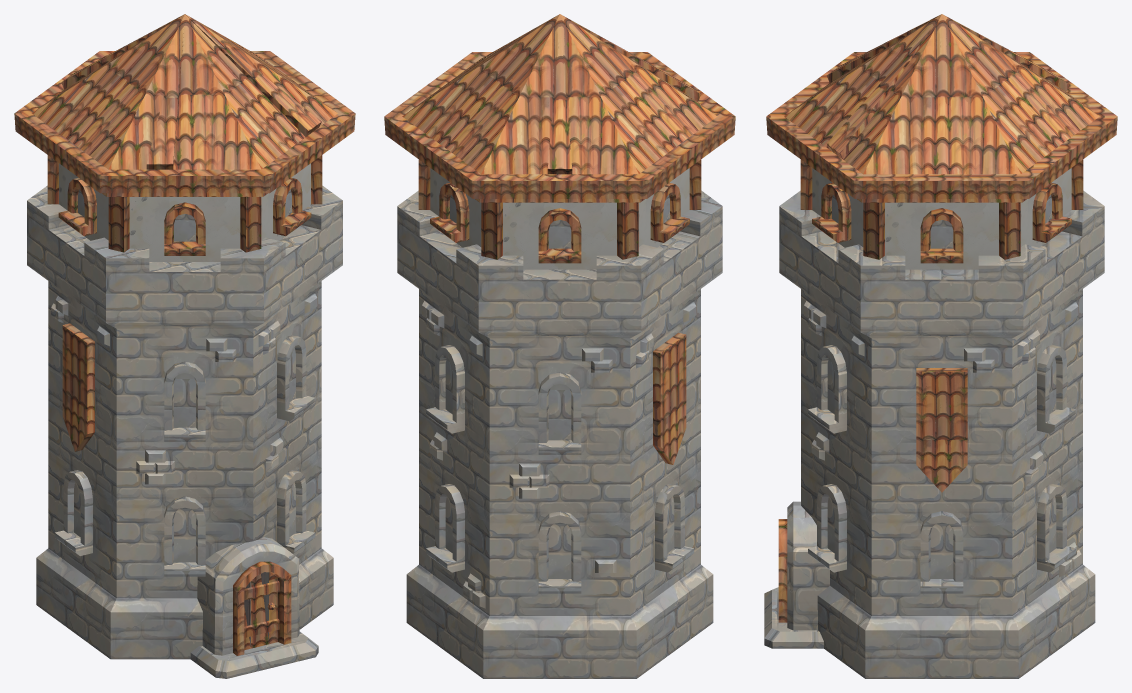
Rendered from building_tower_A_red.gltf.
3 views of the same model, side by side, from view 1: azimuth 30°, elevation 25°; view 2: azimuth 150°, elevation 25°; view 3: azimuth 270°, elevation 25° (orthographic). The views are drawn at different scales.
Parts seen in each view (by area): view 1: building_tower_A_red, building_tower_A_top_red; view 2: building_tower_A_red, building_tower_A_top_red; view 3: building_tower_A_red, building_tower_A_top_red.
Boxes of the visible parts, x1,y1,x2,y2 form: building_tower_A_red: [27, 185, 342, 678]; building_tower_A_top_red: [14, 14, 355, 261]; building_tower_A_red: [397, 190, 722, 678]; building_tower_A_top_red: [384, 14, 735, 269]; building_tower_A_red: [764, 190, 1104, 678]; building_tower_A_top_red: [766, 14, 1117, 269].
Bounding box in the file's own units: 0.9933 × 2.19 × 1.15.
4 materials, 4 textured.
